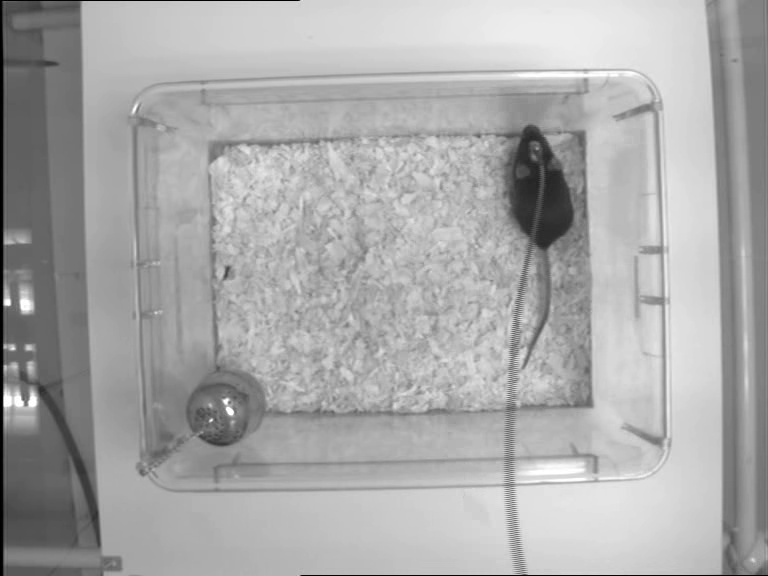mice: (509, 123, 572, 366)
